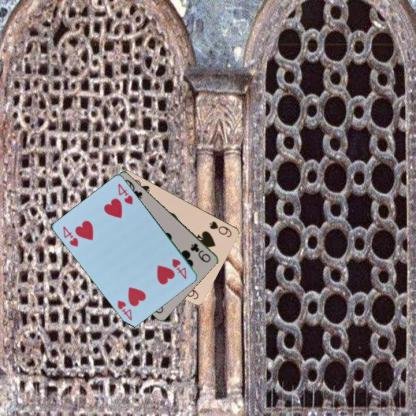4h: (60, 223, 80, 248), (169, 256, 188, 281)
6s: (207, 218, 233, 238)
9c: (188, 240, 212, 263)
